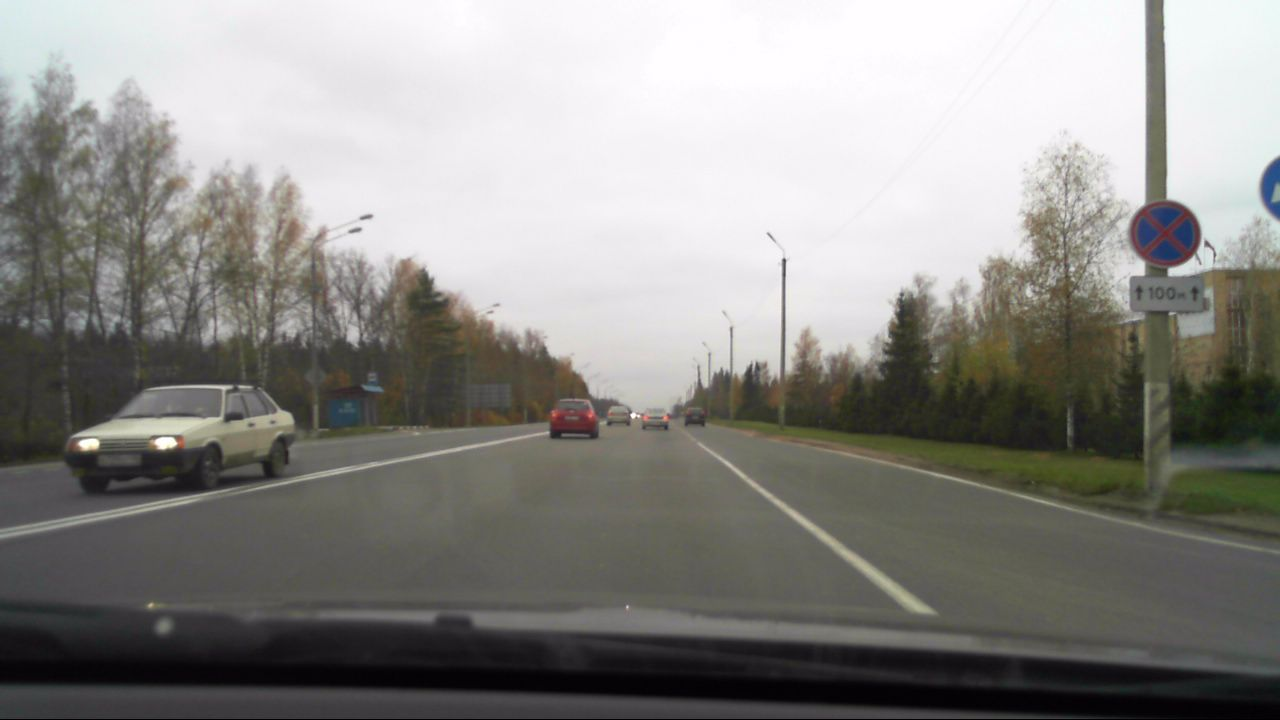No Parking: (1130, 197, 1204, 271)
